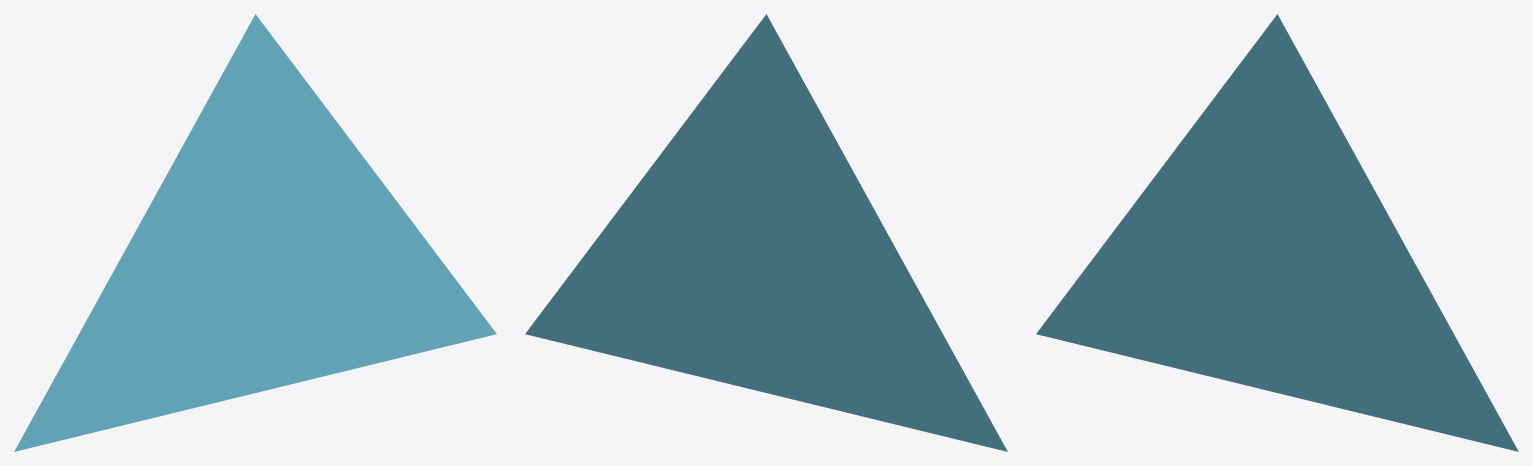
Rendered from estate3d-skyline-massing.glb.
3 views of the same model, side by side, from view 1: azimuth 30°, elevation 25°; view 2: azimuth 150°, elevation 25°; view 3: azimuth 330°, elevation 25° (orthographic).
Visible parts, largest first — view 1: Estate3D PlayCanvas Smoke Triangle; view 2: Estate3D PlayCanvas Smoke Triangle; view 3: Estate3D PlayCanvas Smoke Triangle.
Part boxes in pixels (x1,y1,x2,y2): Estate3D PlayCanvas Smoke Triangle: (14, 14, 496, 451); Estate3D PlayCanvas Smoke Triangle: (525, 14, 1007, 451); Estate3D PlayCanvas Smoke Triangle: (1036, 14, 1518, 451).
Size of the model in its own units: 1.6 by 1.2 by 0.
